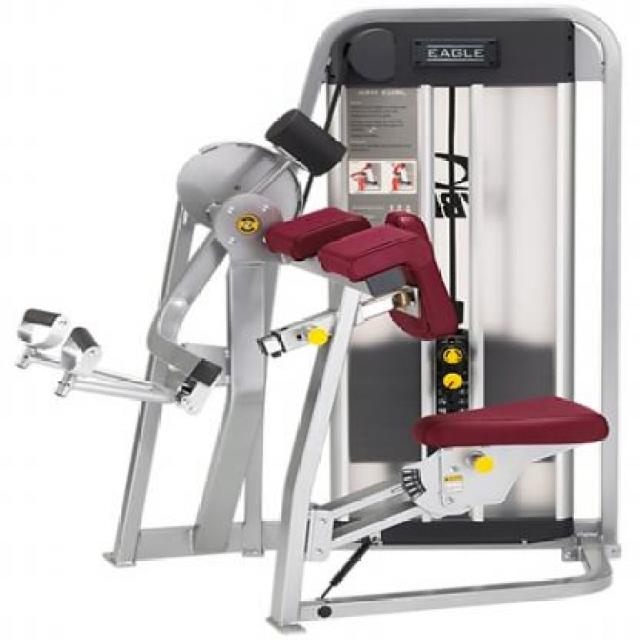arm curl machine: (12, 9, 618, 634)
